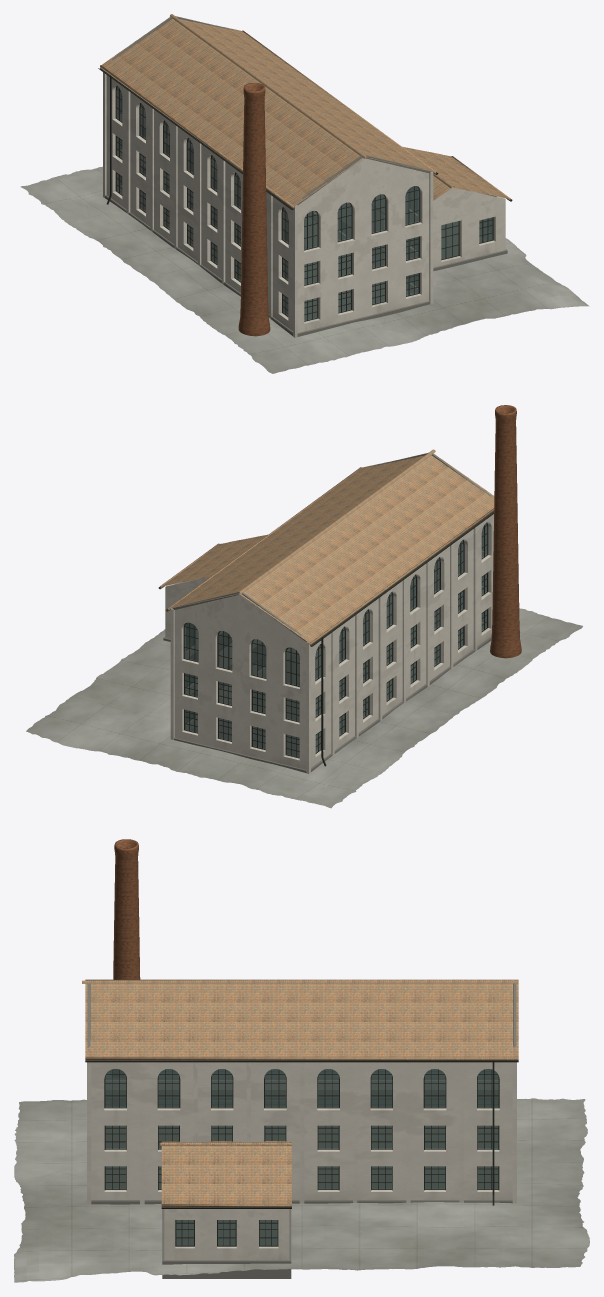
Rendered from azucarera_aranda.glb.
3 views of the same model, one above another, from view 1: azimuth 30°, elevation 25°; view 2: azimuth 150°, elevation 25°; view 3: azimuth 270°, elevation 25° (orthographic). The views are drawn at different scales.
Visible parts, largest first — view 1: AI1_nave_muros_huecos_reales, AI1_cubierta_teja_curva, AI1_patio_cota_terreno, AI1_vidrios_industriales, AI1_chimenea_taper_hueca, AI1_carpinteria_montantes_arcos, AI1_zocalos_y_coronaciones, AI1_estructura_interior; view 2: AI1_nave_muros_huecos_reales, AI1_cubierta_teja_curva, AI1_patio_cota_terreno, AI1_vidrios_industriales, AI1_chimenea_taper_hueca, AI1_carpinteria_montantes_arcos, AI1_zocalos_y_coronaciones; view 3: AI1_nave_muros_huecos_reales, AI1_patio_cota_terreno, AI1_cubierta_teja_curva, AI1_vidrios_industriales, AI1_carpinteria_montantes_arcos, AI1_zocalos_y_coronaciones, AI1_chimenea_taper_hueca, AI1_estructura_interior.
Boxes of the visible parts, x1,y1,x2,y2 form: AI1_nave_muros_huecos_reales: [103, 72, 505, 337]; AI1_cubierta_teja_curva: [100, 14, 510, 208]; AI1_patio_cota_terreno: [20, 166, 589, 373]; AI1_vidrios_industriales: [116, 86, 492, 320]; AI1_chimenea_taper_hueca: [238, 83, 270, 336]; AI1_carpinteria_montantes_arcos: [98, 68, 512, 321]; AI1_zocalos_y_coronaciones: [105, 16, 507, 337]; AI1_estructura_interior: [142, 129, 415, 277]; AI1_nave_muros_huecos_reales: [165, 514, 493, 773]; AI1_cubierta_teja_curva: [160, 449, 494, 645]; AI1_patio_cota_terreno: [26, 608, 582, 808]; AI1_vidrios_industriales: [184, 523, 487, 757]; AI1_chimenea_taper_hueca: [490, 405, 521, 658]; AI1_carpinteria_montantes_arcos: [158, 512, 493, 766]; AI1_zocalos_y_coronaciones: [163, 452, 492, 772]; AI1_nave_muros_huecos_reales: [87, 1062, 516, 1260]; AI1_patio_cota_terreno: [14, 1098, 589, 1282]; AI1_cubierta_teja_curva: [82, 979, 518, 1207]; AI1_vidrios_industriales: [105, 1069, 498, 1245]; AI1_carpinteria_montantes_arcos: [85, 1060, 518, 1246]; AI1_zocalos_y_coronaciones: [87, 983, 516, 1278]; AI1_chimenea_taper_hueca: [113, 839, 140, 979]; AI1_estructura_interior: [106, 1090, 497, 1106].
Size of the model in its own units: 33 by 25.35 by 46.
8 materials, 6 textured.
